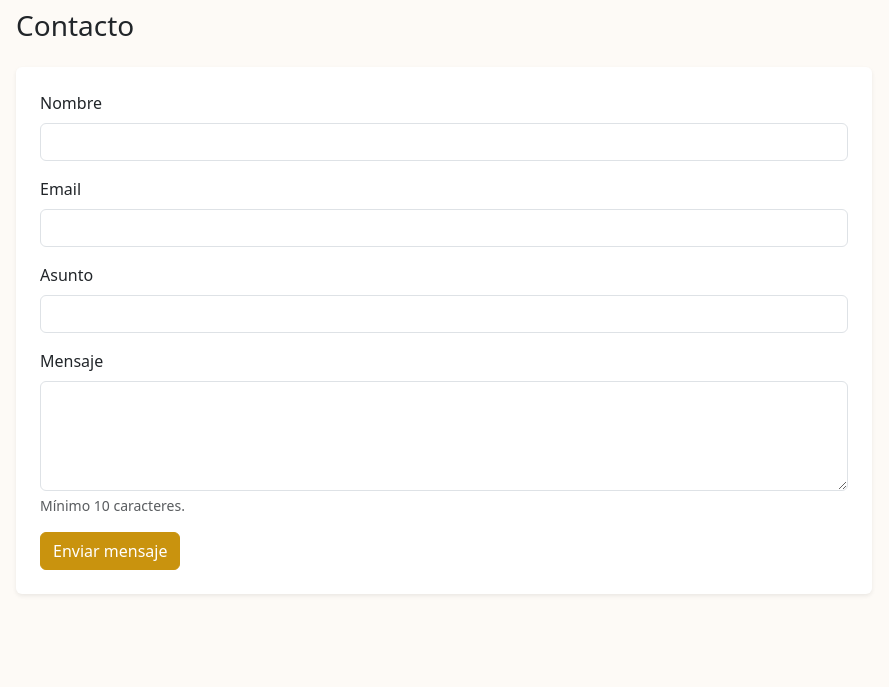
it: Contacto Page › envía datos válidos y muestra el mensaje de éxito
Type "Ana" into the field labelled "Nombre" at {"x": 444, "y": 142}, box top-left (40, 123), bottom-right (848, 161)
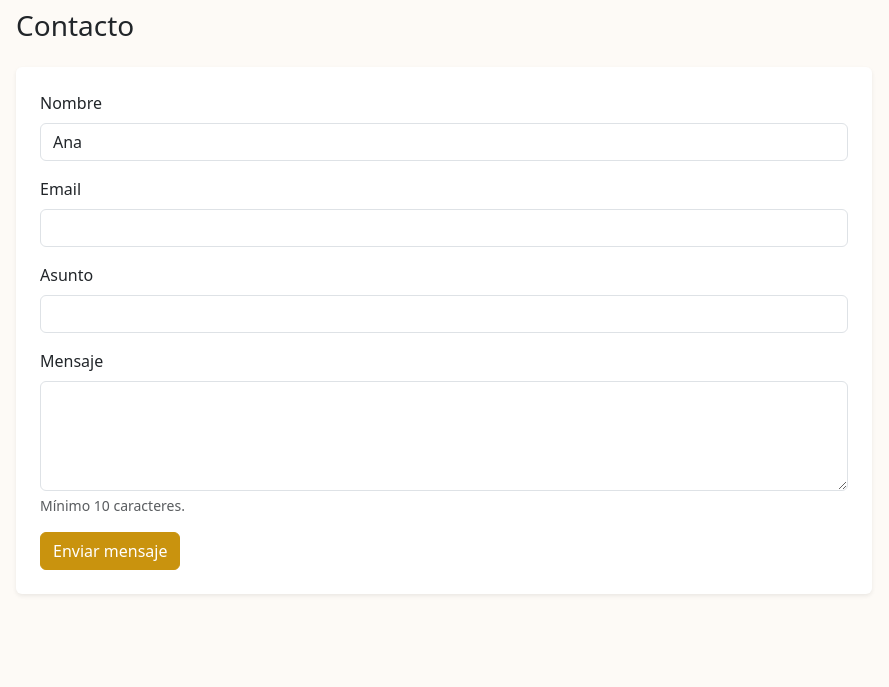
Type "ana@duoc.cl" into the field labelled "Email" at {"x": 444, "y": 228}, box top-left (40, 209), bottom-right (848, 247)
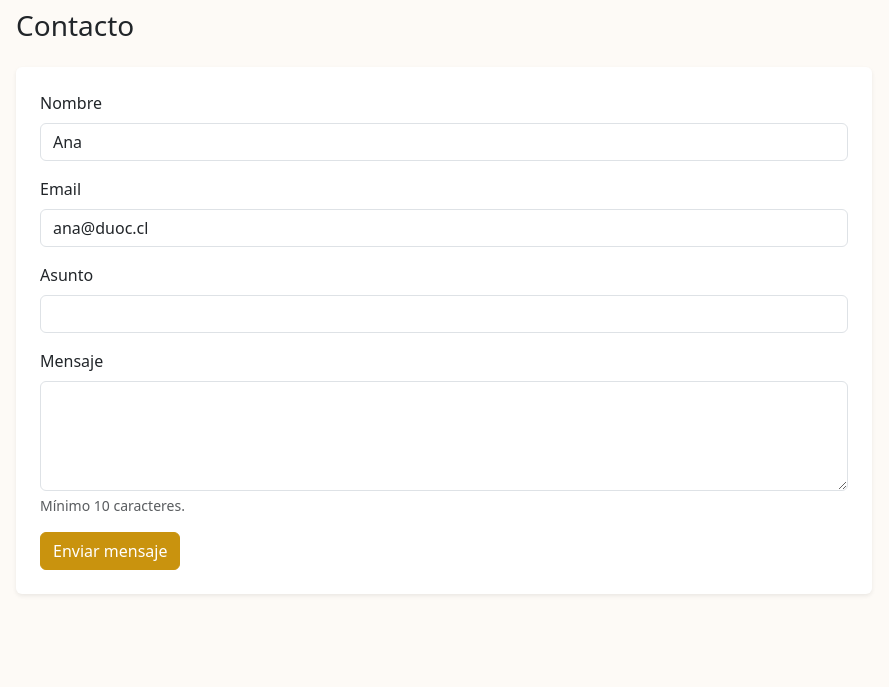
Type "Consulta" into the field labelled "Asunto" at {"x": 444, "y": 314}, box top-left (40, 295), bottom-right (848, 333)
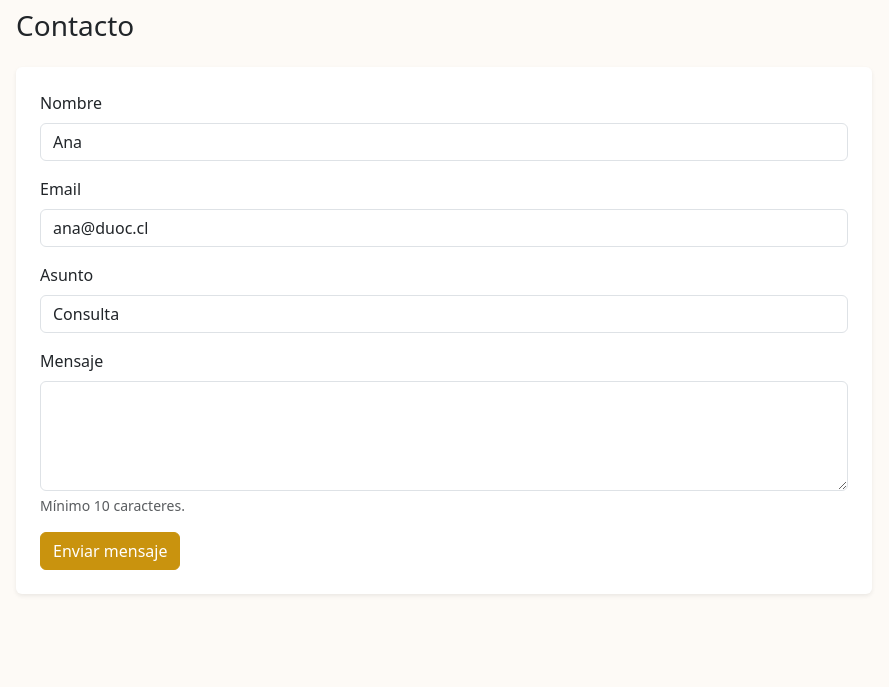
Type "Quisiera información sobre sus cervezas." into the text box labelled "Mensaje" at {"x": 444, "y": 436}, box top-left (40, 381), bottom-right (848, 491)
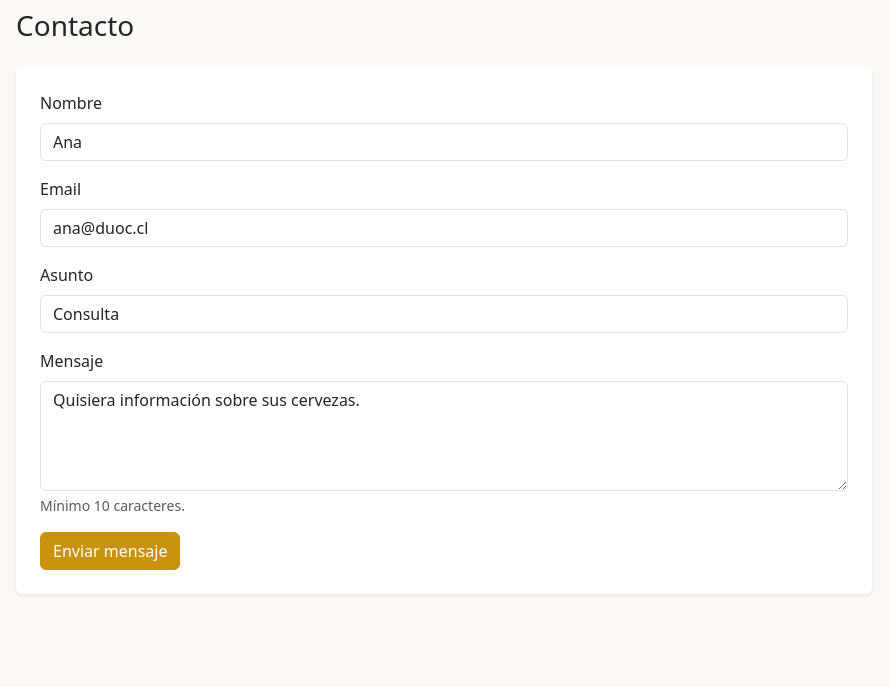
Click the button "Enviar mensaje" at {"x": 110, "y": 551}, box top-left (40, 532), bottom-right (180, 570)
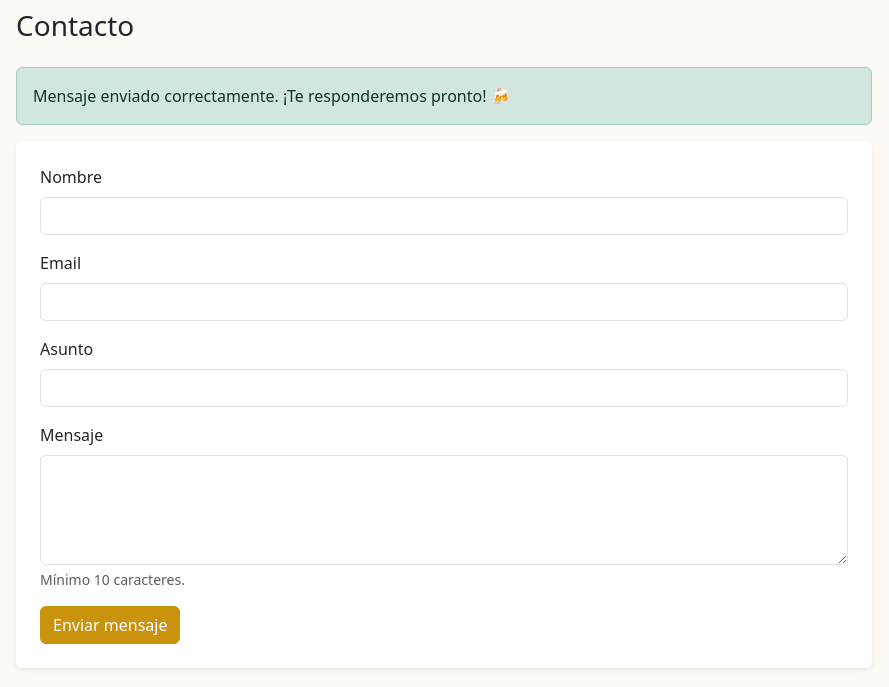
Result: the text "Mensaje enviado correctamente. ¡Te responderemos pronto! 🍻" is shown at top-left (16, 67), bottom-right (872, 125)
